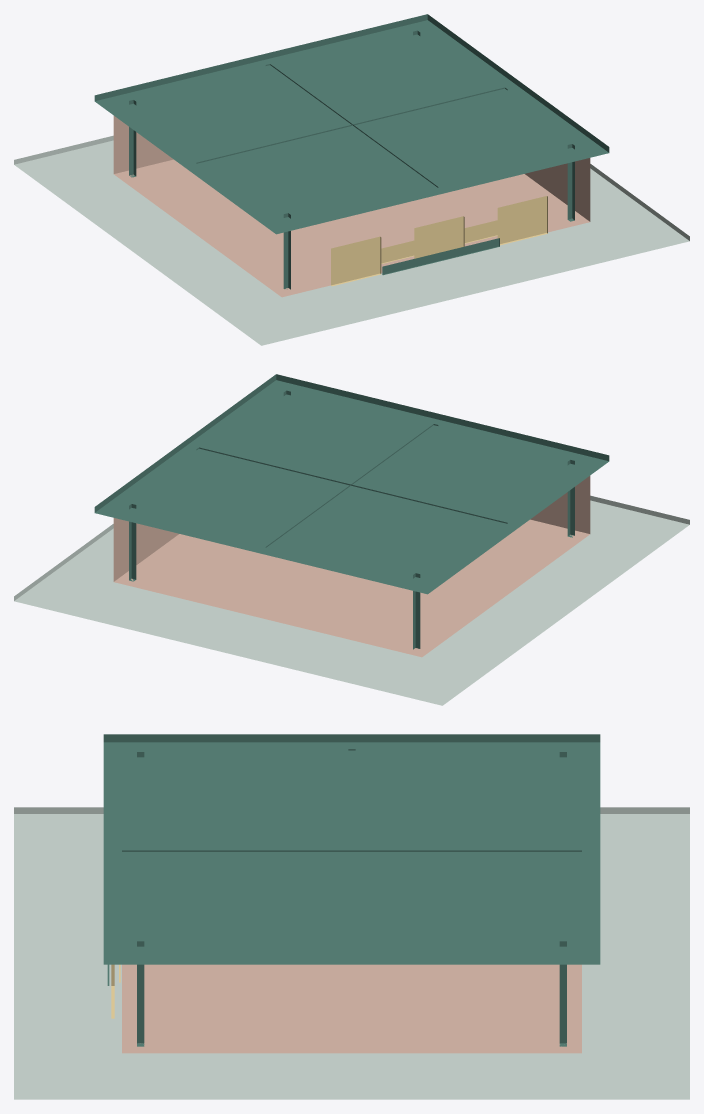
Rendered from appliance_plant.glb.
The picture shows the model from 3 angles, top to bottom: view 1: azimuth 30°, elevation 25°; view 2: azimuth 150°, elevation 25°; view 3: azimuth 270°, elevation 25°; orthographic projection. The views are drawn at different scales.
Parts seen in each view (by area): view 1: Roof, Foundation, Walls, Details, Frame; view 2: Roof, Foundation, Walls, Frame; view 3: Roof, Foundation, Walls, Frame.
Part boxes in pixels (left/top/right/bottom): Roof: left=94, top=14, right=609, bottom=234; Foundation: left=14, top=135, right=689, bottom=345; Walls: left=113, top=116, right=590, bottom=297; Details: left=331, top=196, right=547, bottom=286; Frame: left=129, top=30, right=574, bottom=289; Roof: left=94, top=374, right=609, bottom=594; Foundation: left=14, top=495, right=689, bottom=705; Walls: left=113, top=476, right=590, bottom=657; Frame: left=129, top=390, right=574, bottom=649; Roof: left=103, top=734, right=600, bottom=964; Foundation: left=14, top=807, right=689, bottom=1099; Walls: left=122, top=964, right=581, bottom=1053; Frame: left=122, top=749, right=581, bottom=1046.
Bounding box in the file's own units: 60 × 10.94 × 60.
